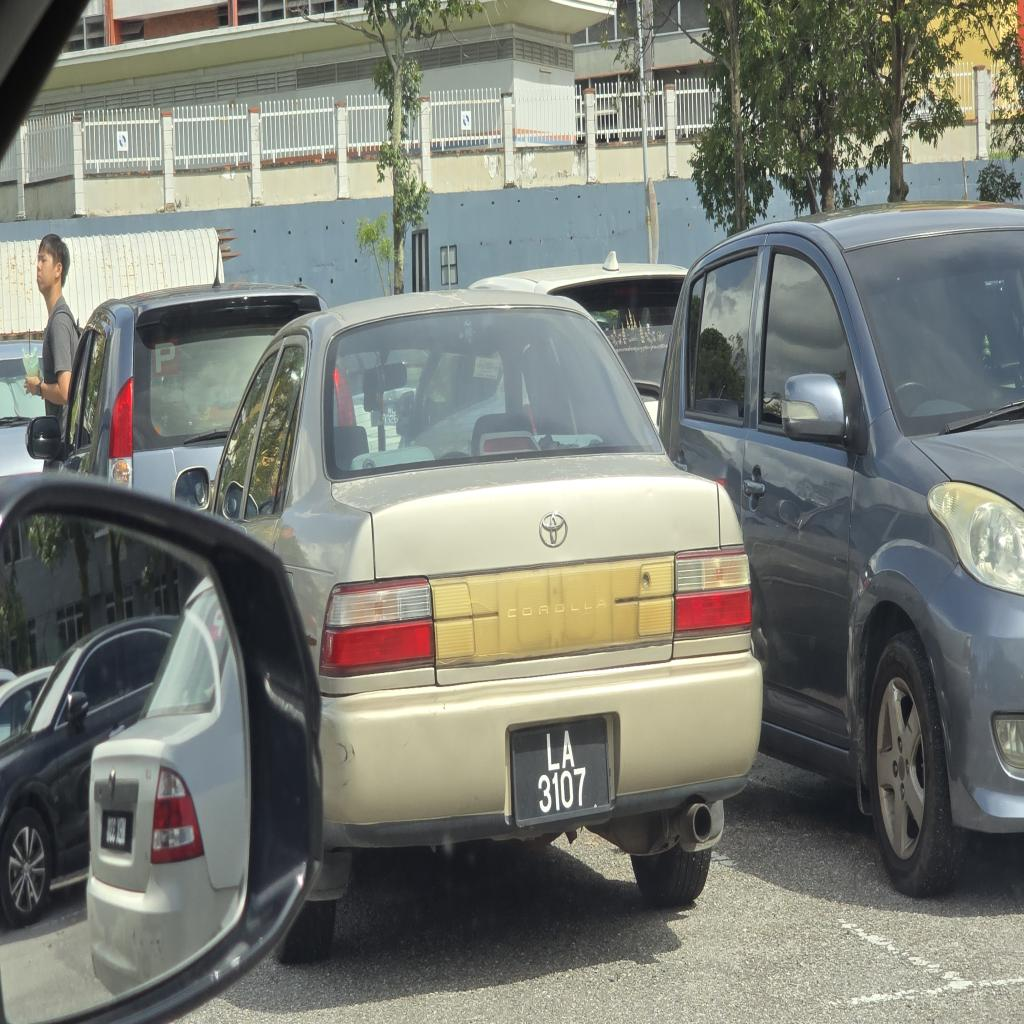car: (212, 289, 761, 958)
car plate: (510, 718, 610, 826)
